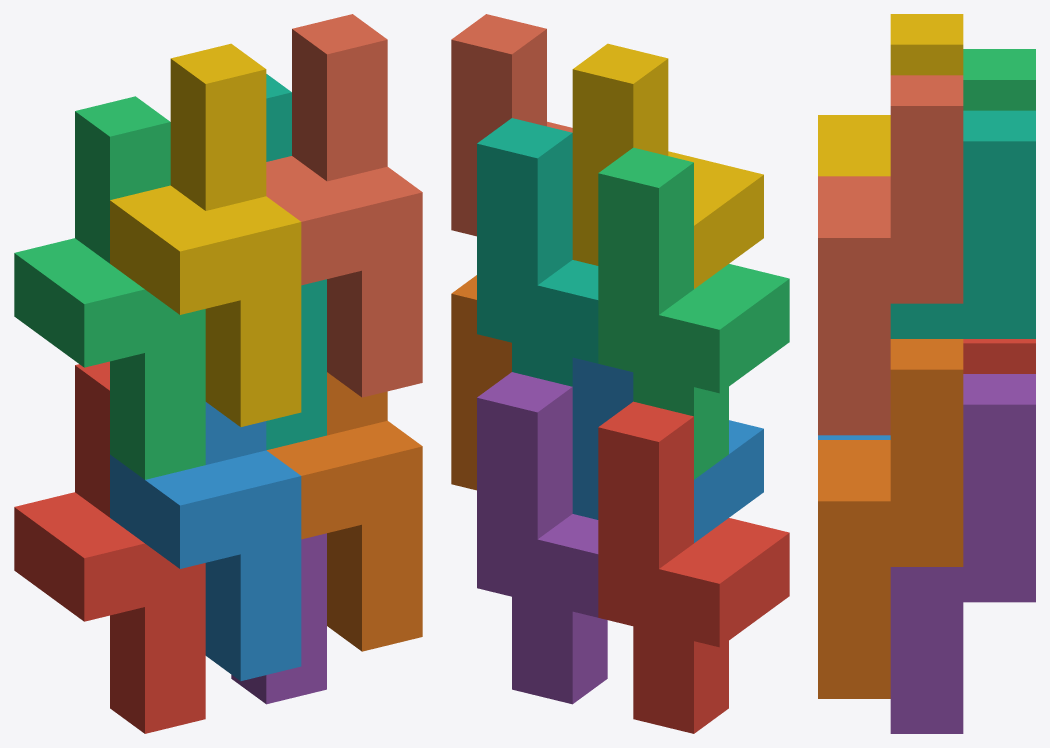
File: tiling.obj
The picture shows the model from 3 angles, left to right: view 1: azimuth 30°, elevation 25°; view 2: azimuth 150°, elevation 25°; view 3: azimuth 270°, elevation 25°; orthographic projection. The views are drawn at different scales.
Parts seen in each view (by area): view 1: copy_1_domain_4, copy_1_domain_8, copy_1_domain_3, copy_1_domain_1, copy_1_domain_2, copy_1_domain_6, copy_1_domain_7, copy_1_domain_5; view 2: copy_1_domain_1, copy_1_domain_3, copy_1_domain_5, copy_1_domain_7, copy_1_domain_4, copy_1_domain_8, copy_1_domain_2, copy_1_domain_6; view 3: copy_1_domain_8, copy_1_domain_6, copy_1_domain_5, copy_1_domain_7, copy_1_domain_4, copy_1_domain_3, copy_1_domain_1.
Part boxes in pixels (x1=…): copy_1_domain_4: x1=110, y1=43, x2=301, y2=426; copy_1_domain_8: x1=266, y1=14, x2=422, y2=397; copy_1_domain_3: x1=14, y1=96, x2=205, y2=479; copy_1_domain_1: x1=14, y1=361, x2=205, y2=733; copy_1_domain_2: x1=110, y1=402, x2=301, y2=681; copy_1_domain_6: x1=267, y1=372, x2=422, y2=651; copy_1_domain_7: x1=266, y1=74, x2=326, y2=450; copy_1_domain_5: x1=231, y1=533, x2=326, y2=704; copy_1_domain_1: x1=598, y1=401, x2=789, y2=733; copy_1_domain_3: x1=598, y1=147, x2=789, y2=479; copy_1_domain_5: x1=477, y1=372, x2=607, y2=704; copy_1_domain_7: x1=477, y1=118, x2=598, y2=386; copy_1_domain_4: x1=572, y1=43, x2=763, y2=288; copy_1_domain_8: x1=451, y1=14, x2=572, y2=236; copy_1_domain_2: x1=572, y1=357, x2=763, y2=542; copy_1_domain_6: x1=451, y1=275, x2=511, y2=490; copy_1_domain_8: x1=818, y1=75, x2=963, y2=435; copy_1_domain_6: x1=818, y1=339, x2=963, y2=698; copy_1_domain_5: x1=890, y1=374, x2=1035, y2=733; copy_1_domain_7: x1=890, y1=110, x2=1035, y2=338; copy_1_domain_4: x1=818, y1=14, x2=963, y2=176; copy_1_domain_3: x1=963, y1=49, x2=1035, y2=110; copy_1_domain_1: x1=963, y1=339, x2=1035, y2=373.
Bounding box in the file's own units: 5 × 10 × 3.
